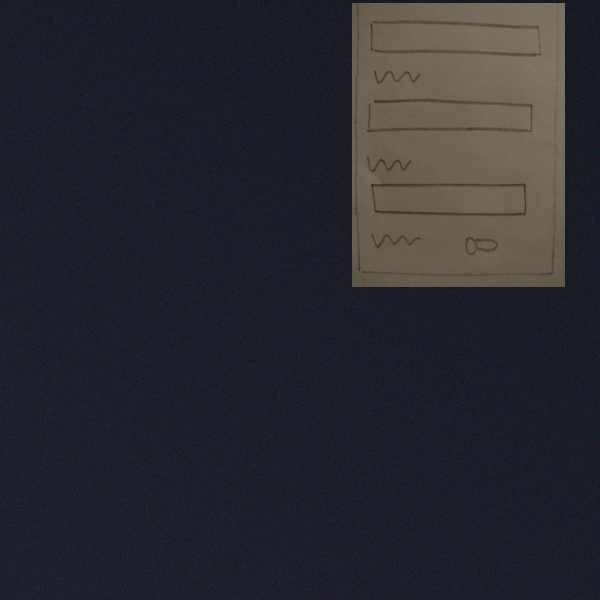switch: (462, 231, 501, 257)
text: (370, 230, 422, 251), (369, 66, 421, 86), (363, 154, 415, 173)
text_input: (362, 94, 538, 138), (368, 18, 543, 62), (369, 178, 529, 217)
